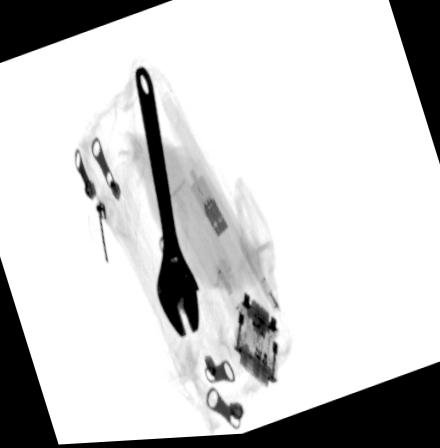Wrench: (133, 66, 200, 344)
